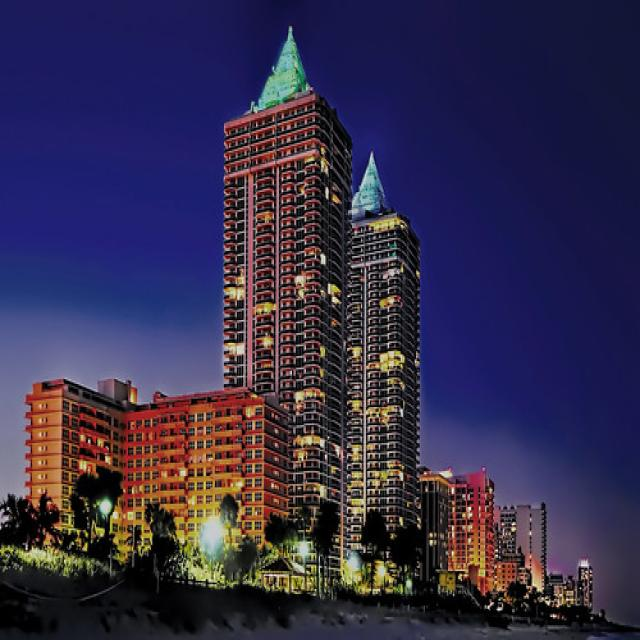building: (218, 52, 356, 588), (340, 212, 424, 596)
